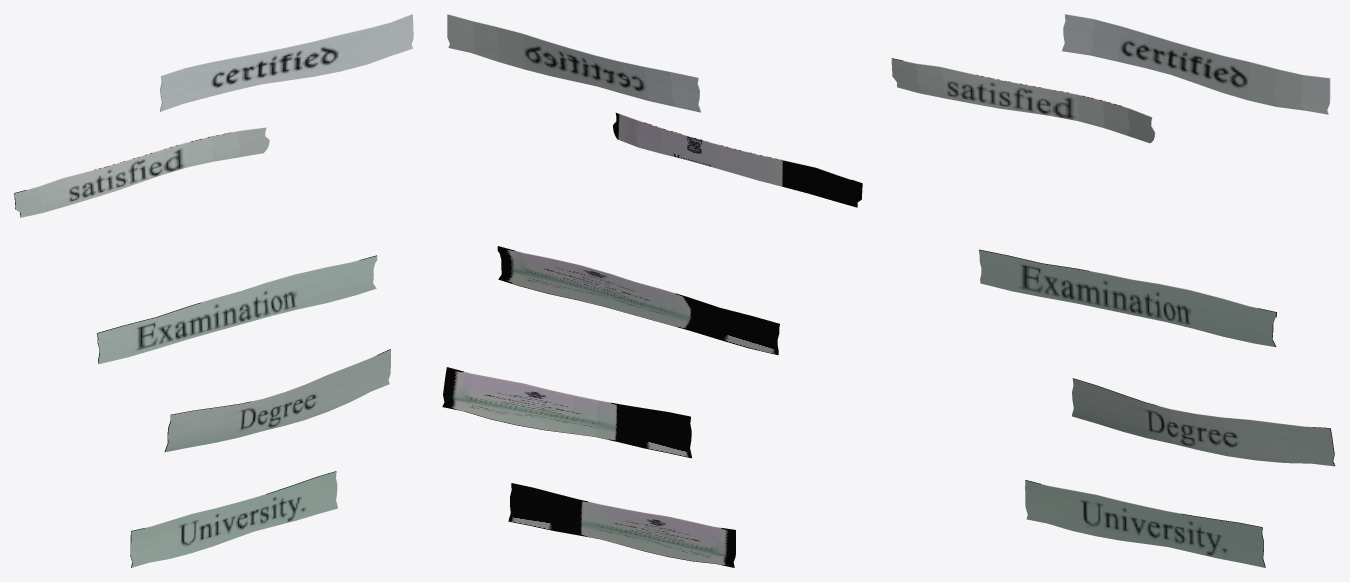
Rendered from MDL_Schniepsel_01.fbx.
3 views of the same model, side by side, from view 1: azimuth 30°, elevation 25°; view 2: azimuth 150°, elevation 25°; view 3: azimuth 330°, elevation 25° (orthographic). The views are drawn at different scales.
Visible parts, largest first — view 1: snippet_3, snippet_1, snippet_4, snippet_5, Plane.008; view 2: snippet_4, snippet_3, snippet_5, snippet_1, Plane.008; view 3: snippet_3, snippet_1, snippet_4, snippet_5, Plane.008.
Part boxes in pixels (x1,y1,x2,y2): snippet_3: (97,255,377,363); snippet_1: (160,14,413,111); snippet_4: (164,349,390,452); snippet_5: (130,471,337,567); Plane.008: (14,127,269,217); snippet_4: (442,367,691,458); snippet_3: (497,246,779,354); snippet_5: (508,483,735,567); snippet_1: (447,14,701,112); Plane.008: (613,112,862,207); snippet_3: (978,249,1276,347); snippet_1: (1062,14,1330,114); snippet_4: (1072,378,1335,466); snippet_5: (1025,480,1265,567); Plane.008: (891,58,1155,143).
Bounding box in the file's own units: 137 × 157 × 14.85.
